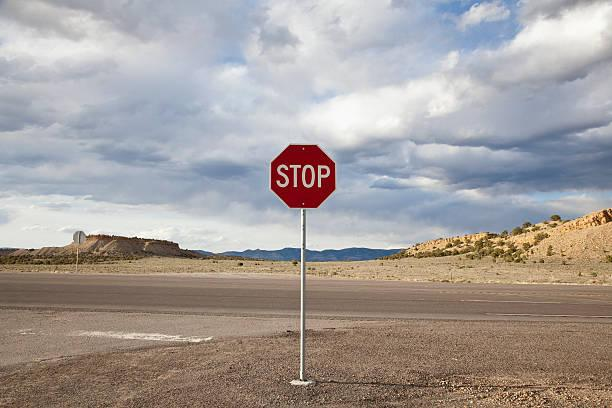Pole: (299, 208, 306, 381)
Sign: (269, 144, 336, 208)
